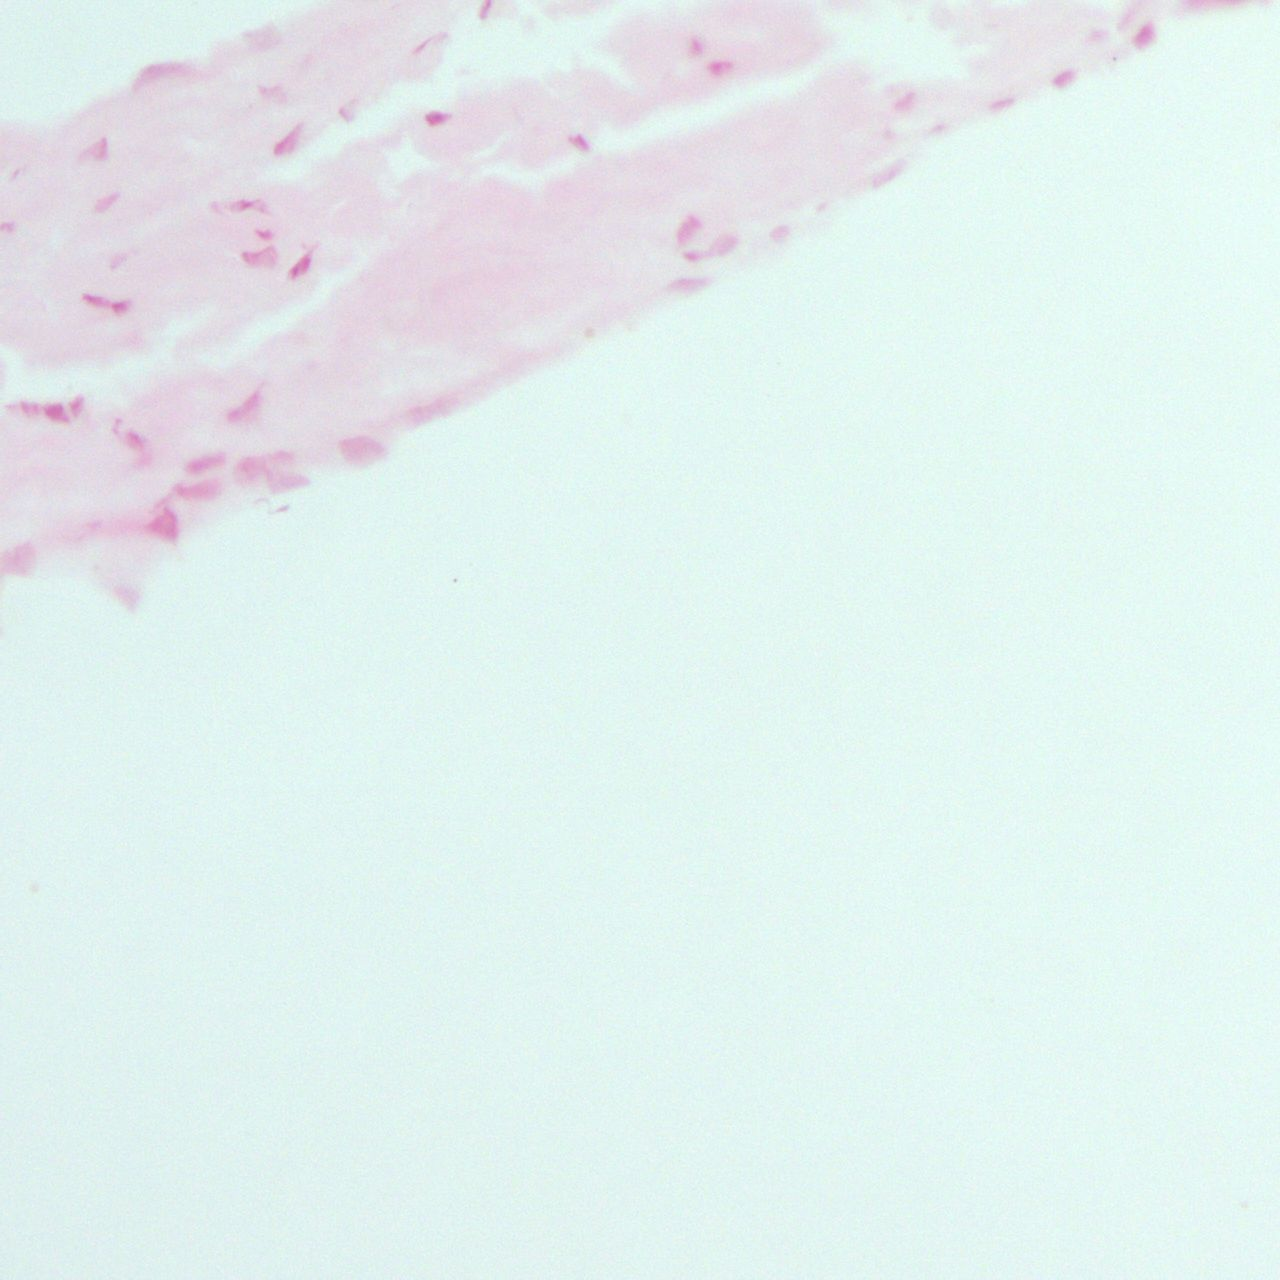nucleus-AC: (338, 428, 388, 471), (142, 503, 188, 549), (224, 387, 268, 428), (173, 476, 224, 508), (270, 122, 308, 163), (1, 539, 38, 577), (237, 244, 282, 273), (285, 245, 320, 282), (183, 451, 226, 481), (267, 467, 311, 495), (406, 399, 447, 427), (136, 61, 185, 82), (670, 212, 701, 245), (871, 159, 904, 190), (1128, 22, 1158, 53), (706, 231, 735, 260), (79, 288, 113, 312), (90, 189, 120, 216), (411, 30, 443, 55), (1049, 66, 1078, 91), (567, 130, 594, 157), (236, 456, 265, 481), (672, 275, 712, 293), (892, 90, 919, 116), (226, 197, 266, 213), (42, 399, 68, 422), (82, 137, 108, 161), (986, 95, 1015, 115), (707, 56, 734, 76), (768, 224, 791, 246), (270, 448, 297, 467), (124, 431, 147, 454), (423, 110, 452, 125), (260, 86, 285, 102), (18, 399, 40, 416), (336, 104, 355, 123), (70, 395, 86, 417), (253, 227, 278, 240), (111, 299, 130, 315), (689, 38, 703, 55), (681, 251, 702, 261), (8, 166, 22, 182), (0, 220, 15, 232)
